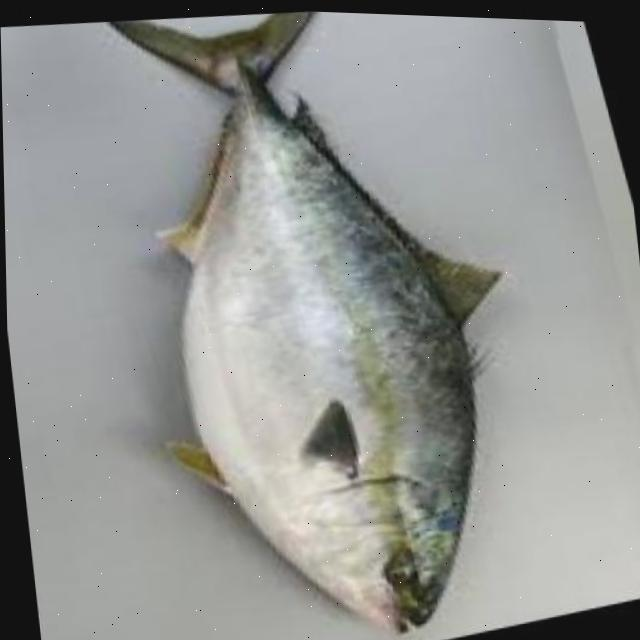Kingfish: (95, 3, 543, 640)
